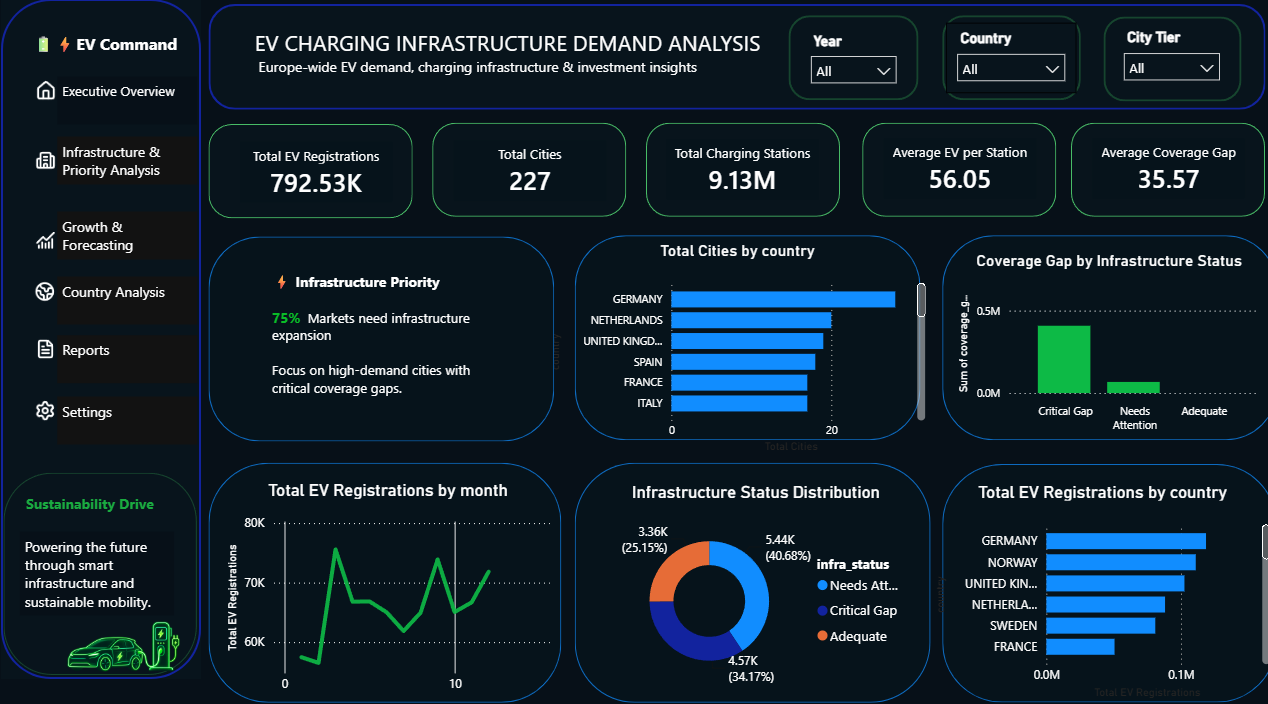

Layout of this report page (visuals, bound fields, positions):
{"tool":"powerbi","page":{"name":"1.Executive Overview","canvas":[1280,720],"ordinal":0},"visuals":[{"type":"shape","box":[578.6,468.6,355.7,240],"z":0},{"type":"slicer","fields":{"Values":["ev_charging_analysis ev_data.country"]},"box":[963.8,28.8,115,66.2],"z":1000},{"type":"shape","box":[4.4,5.6,200,680],"z":2000},{"type":"donutChart","title":"Infrastructure Status Distribution","fields":{"Y":["CountNonNull(ev_charging_analysis ev_data.infra_status)"],"Category":["ev_charging_analysis ev_data.infra_status"]},"box":[601.4,487.1,317.5,208.8],"z":3000},{"type":"textbox","box":[20,34.2,177.5,38.3],"z":4000},{"type":"textbox","box":[60.7,142.1,140,48],"z":5000},{"type":"textbox","box":[60.7,217.1,140,48],"z":6000},{"type":"textbox","box":[60.7,282.9,140,48],"z":7000},{"type":"textbox","box":[60.7,340.7,140,48],"z":8000},{"type":"textbox","box":[60.7,402.9,140,48],"z":9000},{"type":"image","box":[38.6,86.4,22.1,20.7],"z":10000},{"type":"image","box":[38.6,236.4,21,20],"z":11000},{"type":"image","box":[38.6,156.4,21,20],"z":12000},{"type":"image","box":[38.6,287.1,20.7,20],"z":13000},{"type":"image","box":[38.6,345,21,20],"z":14000},{"type":"image","box":[38.6,406.4,20.7,20.7],"z":15000},{"type":"textbox","box":[60.7,82.9,140,48],"z":16000},{"type":"shape","box":[7.8,478.9,193.3,202.2],"z":17000},{"type":"image","box":[60,612.2,128.9,84.4],"z":18000},{"type":"textbox","box":[24.4,495.6,154.4,34.4],"z":19000},{"type":"textbox","box":[24.2,537.5,154.3,84.3],"z":20000},{"type":"shape","box":[212.9,10,1057.1,105.7],"z":21000},{"type":"textbox","box":[253.8,28.8,527.5,66.2],"z":22000},{"type":"shape","box":[792.5,21.2,130,85],"z":23000},{"type":"shape","box":[946.2,21.2,138.8,85],"z":24000},{"type":"shape","box":[1107.5,22.5,138,85],"z":25000},{"type":"slicer","fields":{"Values":["ev_charging_analysis ev_data.year"]},"box":[803.8,32.5,107.5,63.8],"z":26000},{"type":"slicer","fields":{"Values":["ev_charging_analysis ev_data.country"]},"box":[950,28.8,130,70],"z":27000},{"type":"slicer","fields":{"Values":["ev_charging_analysis ev_data.city_tier"]},"box":[1117.5,28.8,116.2,71],"z":28000},{"type":"shape","box":[436.2,128.8,194,94],"z":29000},{"type":"shape","box":[650,128.8,194,94],"z":30000},{"type":"shape","box":[866.2,128.8,194,94],"z":31000},{"type":"shape","box":[1075,128.8,194,94],"z":32000},{"type":"shape","box":[212.9,130,204.3,94.3],"z":33000},{"type":"cardVisual","fields":{"Data":["ev_charging_analysis ev_data.Total EV Registrations"]},"box":[238.7,142,163.2,71.2],"z":34000},{"type":"cardVisual","fields":{"Data":["ev_charging_analysis ev_data.Total Cities"]},"box":[452,141.3,163.2,71.2],"z":35000},{"type":"cardVisual","fields":{"Data":["ev_charging_analysis ev_data.Total Charging Stations"]},"box":[665.3,140,163.2,71.2],"z":36000},{"type":"cardVisual","fields":{"Data":["ev_charging_analysis ev_data.Average EV per Station"]},"box":[882.5,138.8,163.2,71.2],"z":37000},{"type":"cardVisual","fields":{"Data":["ev_charging_analysis ev_data.Average Coverage Gap"]},"box":[1091.2,138.8,163.2,71.2],"z":38000},{"type":"shape","box":[212.9,468.6,352.9,240],"z":39000},{"type":"lineChart","fields":{"Category":["ev_charging_analysis ev_data.month"],"Y":["ev_charging_analysis ev_data.Total EV Registrations"]},"box":[227.1,482.9,329,223],"z":40000},{"type":"shape","box":[945.7,241.4,335,205],"z":41000},{"type":"shape","box":[945.7,470,334.3,238.6],"z":42000},{"type":"barChart","fields":{"Category":["ev_charging_analysis ev_data.country"],"Y":["ev_charging_analysis ev_data.Total EV Registrations"]},"box":[934.3,487.1,345.7,221.4],"z":43000},{"type":"columnChart","title":"Coverage Gap by Infrastructure Status","fields":{"Category":["ev_charging_analysis ev_data.infra_status"],"Y":["Sum(ev_charging_analysis ev_data.coverage_gap)"]},"box":[957.1,257.1,311.4,188.6],"z":44000},{"type":"shape","box":[578.6,241.4,345.7,205],"z":45000},{"type":"clusteredBarChart","fields":{"Y":["ev_charging_analysis ev_data.Total Cities"],"Category":["ev_charging_analysis ev_data.country"]},"box":[548.6,247.1,385.7,215.7],"z":46000},{"type":"shape","box":[212.9,242.9,345.7,205],"z":47000},{"type":"textbox","box":[263.8,273.1,233.8,136.2],"z":49000}]}

Visuals, with their boxes on the page's 1280x720 design canvas (x1, y1, x2, y2). These are canvas units, not pixel positions in the 1268x704 screenshot, which may show the page scaled, cropped or inside an application window:
shape: (579,469,934,709)
slicer - ev_charging_analysis ev_data.country: (964,29,1079,95)
shape: (4,6,204,686)
"Infrastructure Status Distribution" donutChart: (601,487,919,696)
textbox: (20,34,198,72)
textbox: (61,142,201,190)
textbox: (61,217,201,265)
textbox: (61,283,201,331)
textbox: (61,341,201,389)
textbox: (61,403,201,451)
image: (39,86,61,107)
image: (39,236,60,256)
image: (39,156,60,176)
image: (39,287,59,307)
image: (39,345,60,365)
image: (39,406,59,427)
textbox: (61,83,201,131)
shape: (8,479,201,681)
image: (60,612,189,697)
textbox: (24,496,179,530)
textbox: (24,538,178,622)
shape: (213,10,1270,116)
textbox: (254,29,781,95)
shape: (792,21,922,106)
shape: (946,21,1085,106)
shape: (1108,22,1246,108)
slicer - ev_charging_analysis ev_data.year: (804,32,911,96)
slicer - ev_charging_analysis ev_data.country: (950,29,1080,99)
slicer - ev_charging_analysis ev_data.city_tier: (1118,29,1234,100)
shape: (436,129,630,223)
shape: (650,129,844,223)
shape: (866,129,1060,223)
shape: (1075,129,1269,223)
shape: (213,130,417,224)
cardVisual - ev_charging_analysis ev_data.Total EV Registrations: (239,142,402,213)
cardVisual - ev_charging_analysis ev_data.Total Cities: (452,141,615,212)
cardVisual - ev_charging_analysis ev_data.Total Charging Stations: (665,140,828,211)
cardVisual - ev_charging_analysis ev_data.Average EV per Station: (882,139,1046,210)
cardVisual - ev_charging_analysis ev_data.Average Coverage Gap: (1091,139,1254,210)
shape: (213,469,566,709)
lineChart - ev_charging_analysis ev_data.month x ev_charging_analysis ev_data.Total EV Registrations: (227,483,556,706)
shape: (946,241,1281,446)
shape: (946,470,1280,709)
barChart - ev_charging_analysis ev_data.country x ev_charging_analysis ev_data.Total EV Registrations: (934,487,1280,708)
"Coverage Gap by Infrastructure Status" columnChart: (957,257,1268,446)
shape: (579,241,924,446)
clusteredBarChart - ev_charging_analysis ev_data.Total Cities x ev_charging_analysis ev_data.country: (549,247,934,463)
shape: (213,243,559,448)
textbox: (264,273,498,409)
